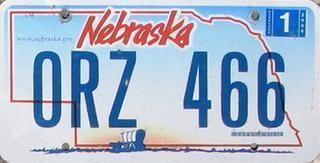placa de veiculo: (8, 1, 304, 160)
